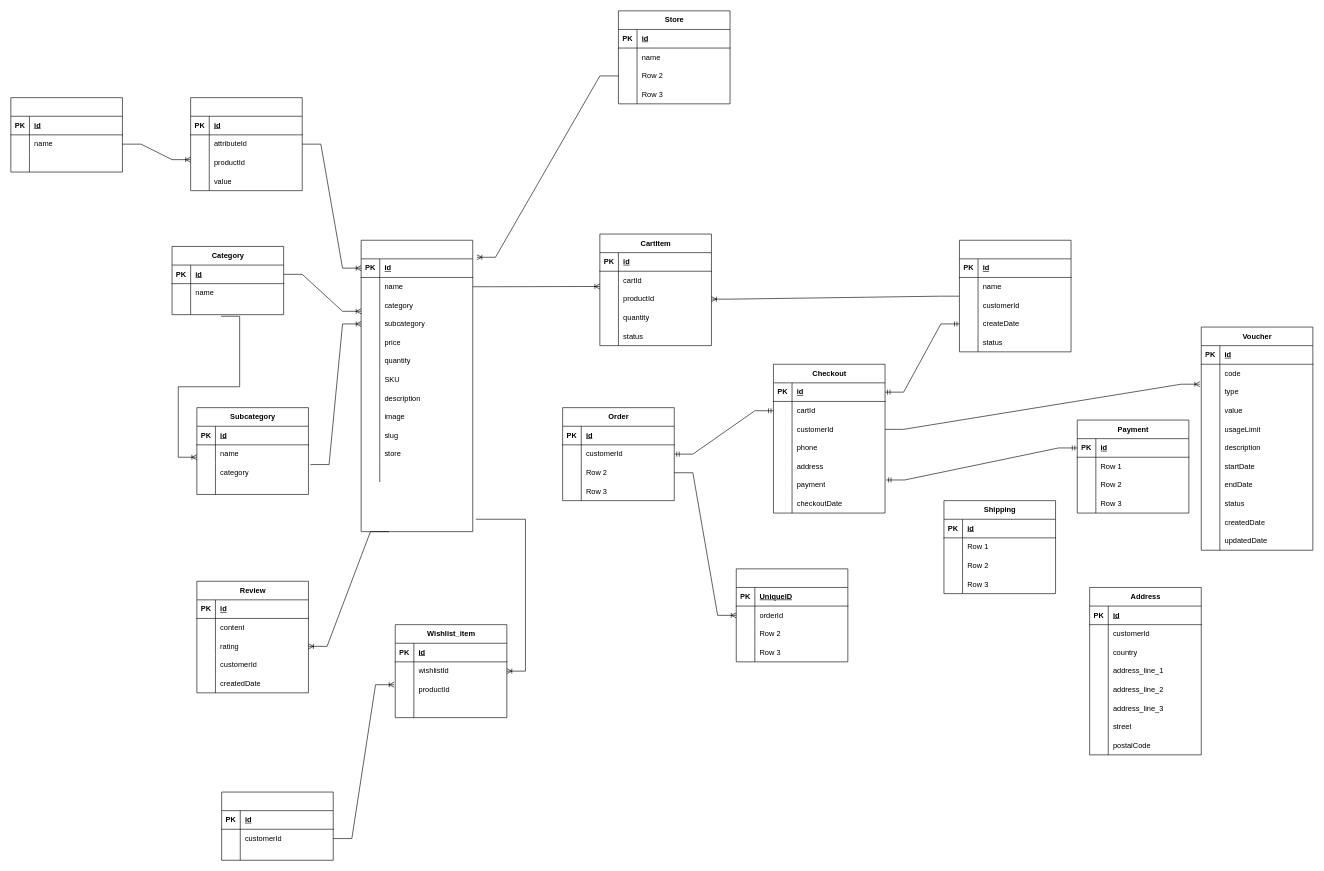
The diagram is 1324 pixels wide and 871 high, and some of its shapes have lost their labels. The box of each missing label's shape, as (x1, y1, x2, y2) in pixels:
Attribute Value: (190, 97, 302, 191)
Cart: (959, 240, 1071, 352)
OrderDetail: (736, 568, 848, 662)
Product: (361, 240, 473, 532)
Product Attribute: (10, 97, 122, 172)
Wishlist: (221, 791, 333, 860)
